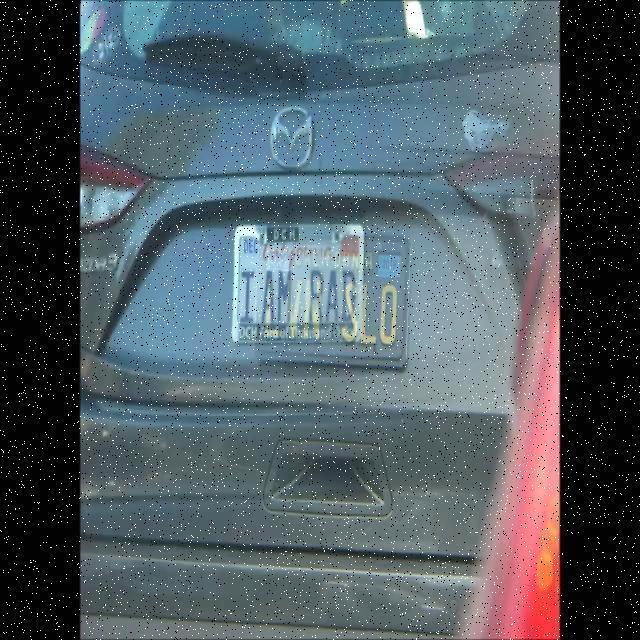LicensePlate: (234, 218, 365, 352)
